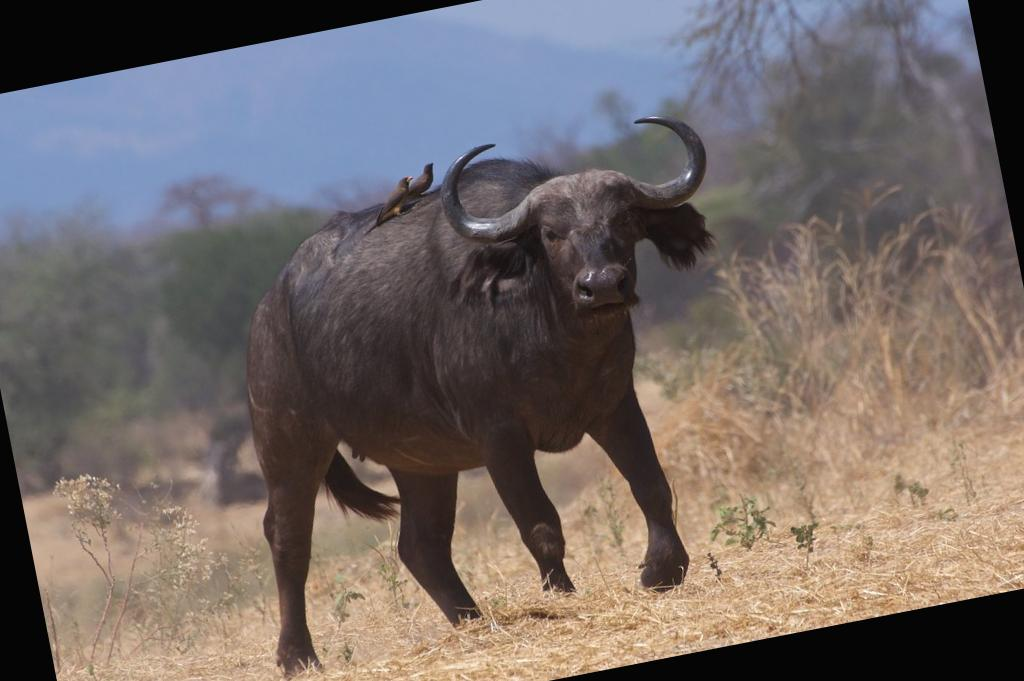Buffalo: (127, 75, 807, 681)
